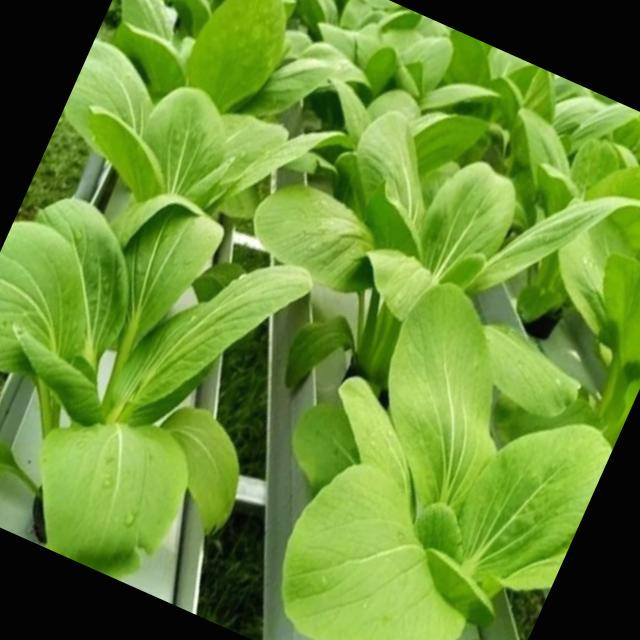pakcoy_sehat: (207, 91, 618, 540)
